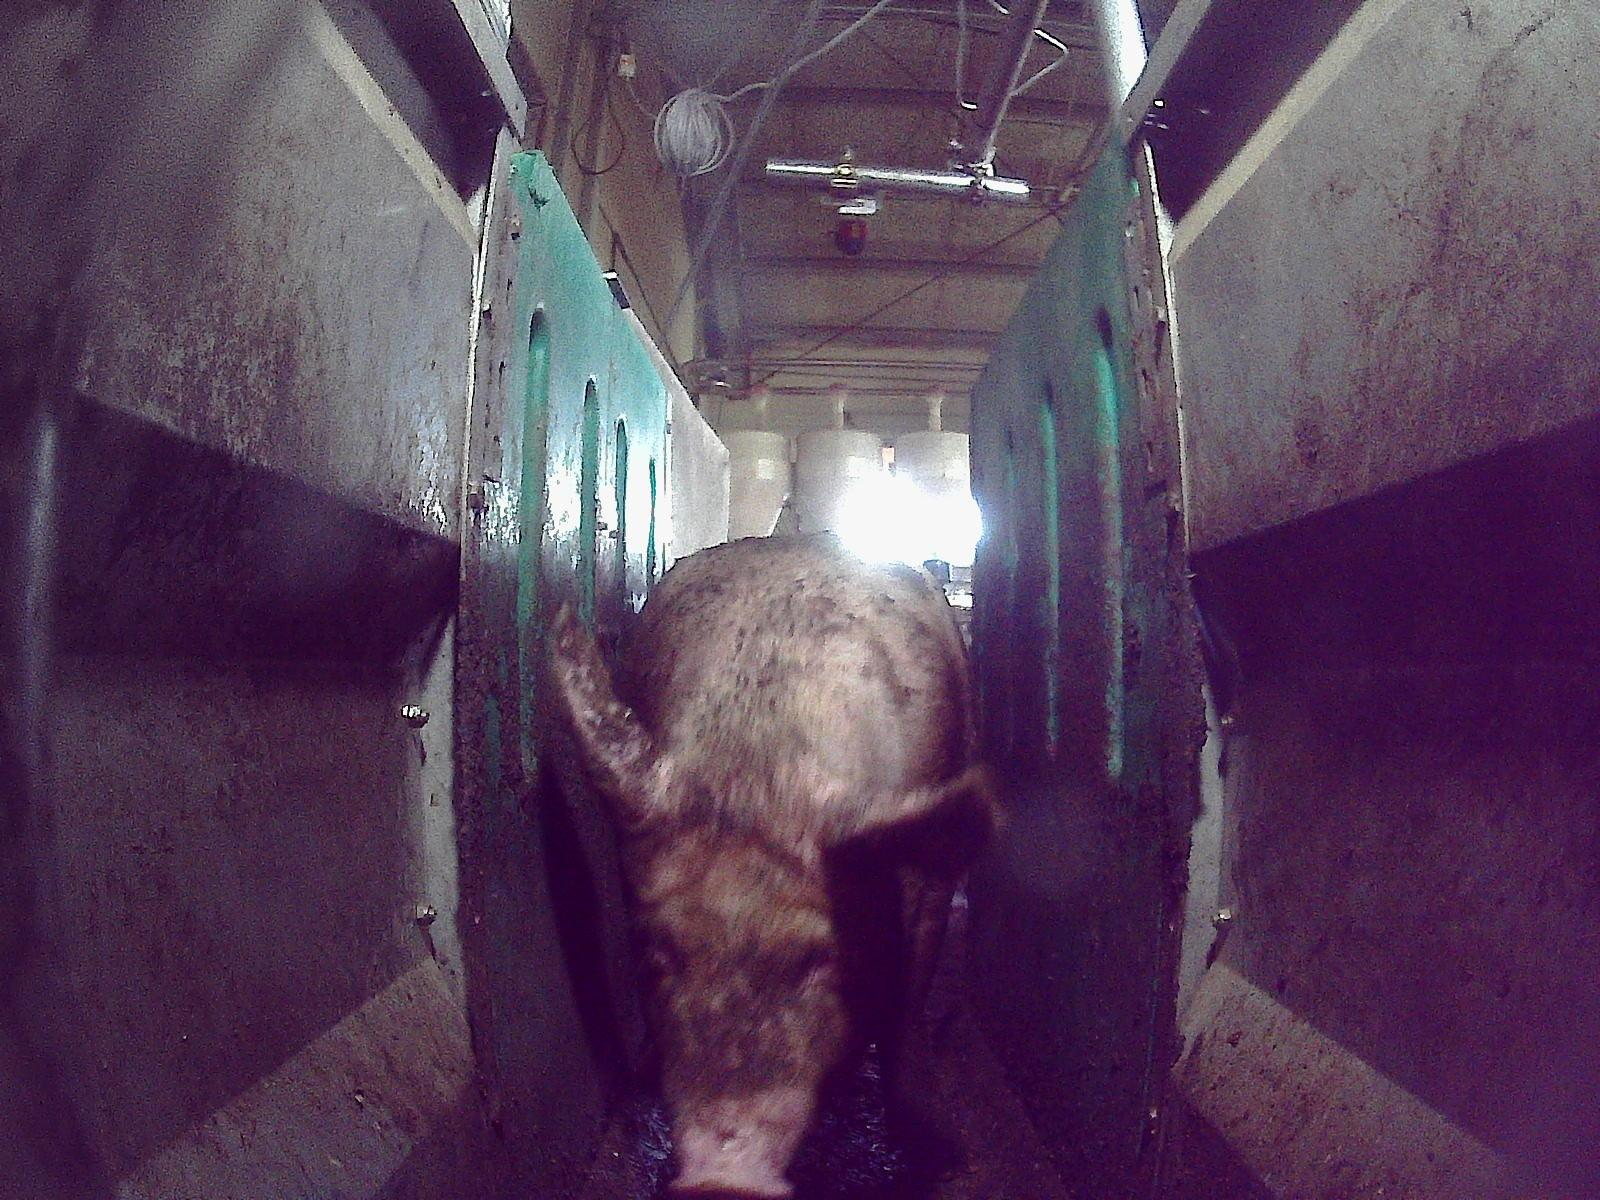Face: (613, 760, 886, 1199)
